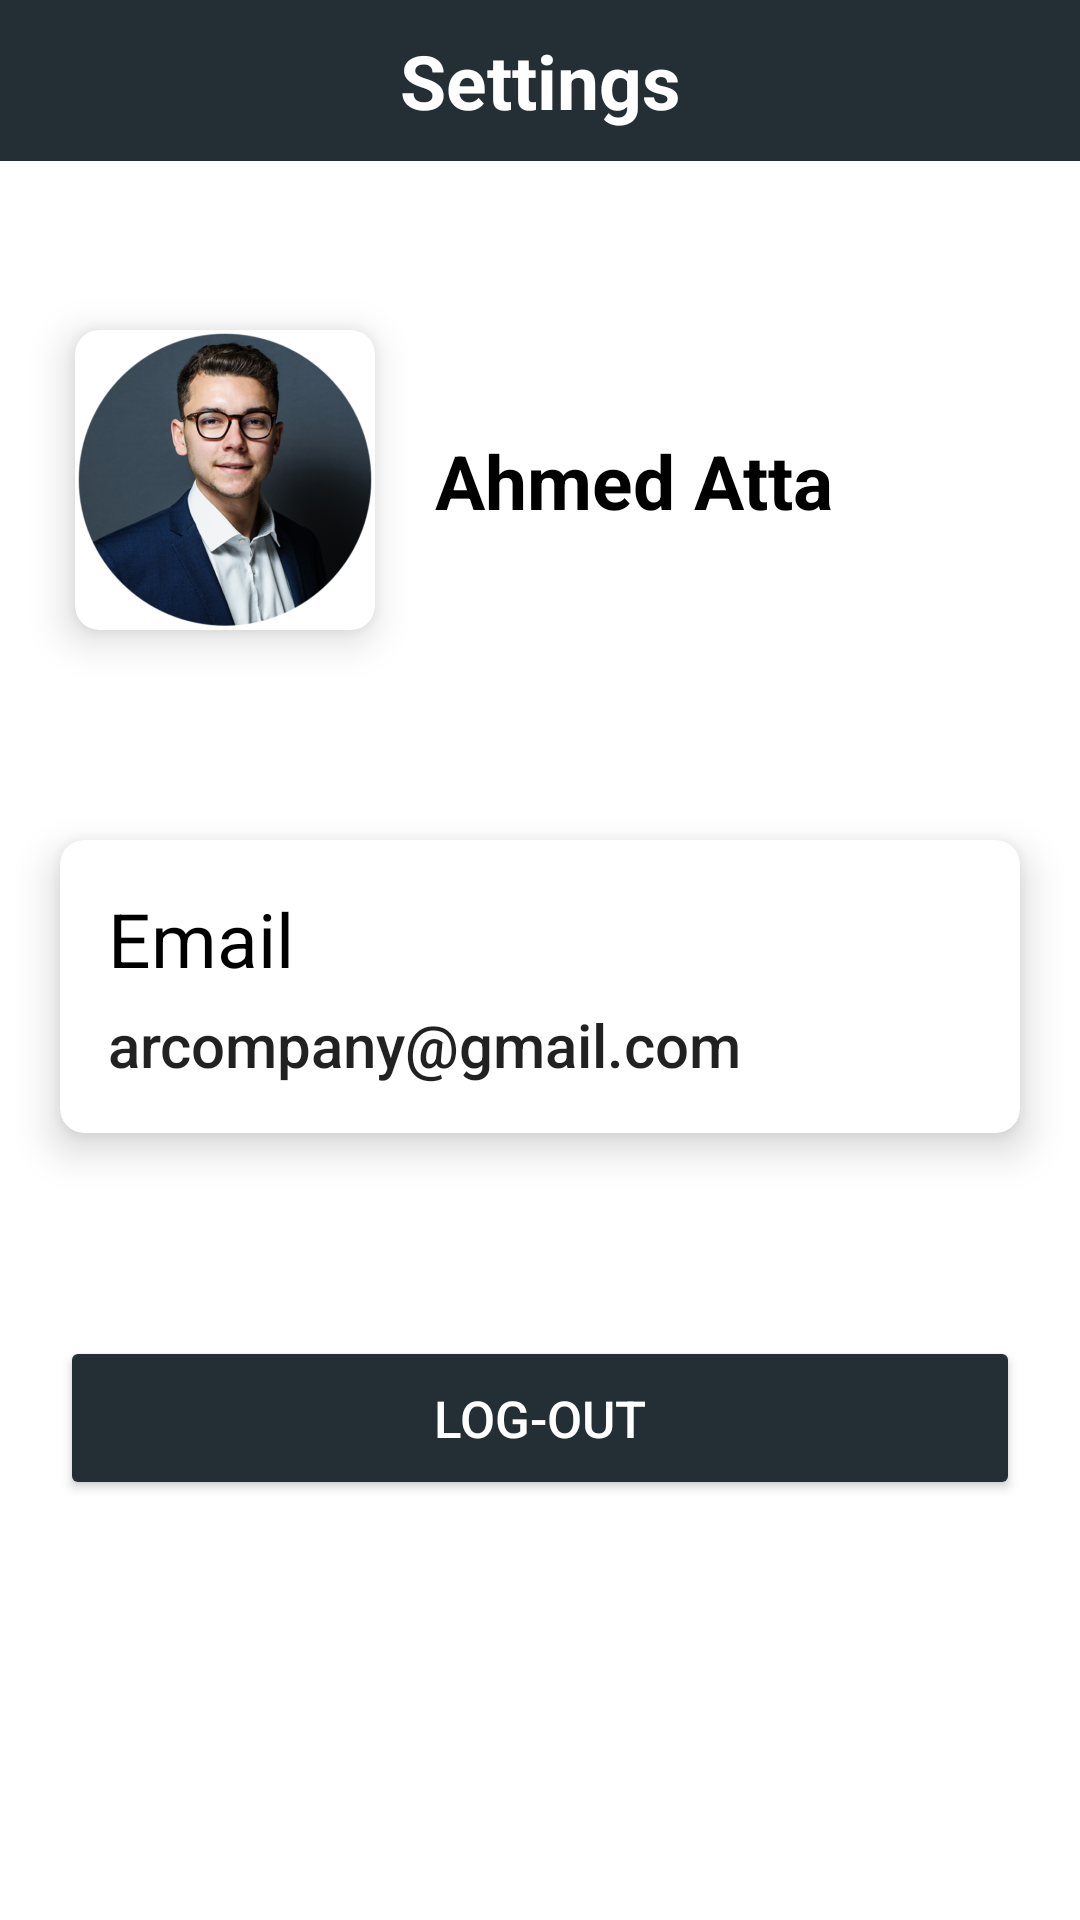

Named icons in this screenshot (1080*1920) and their centers, (x=x, y=y):
mancircle: (x=225, y=480)
